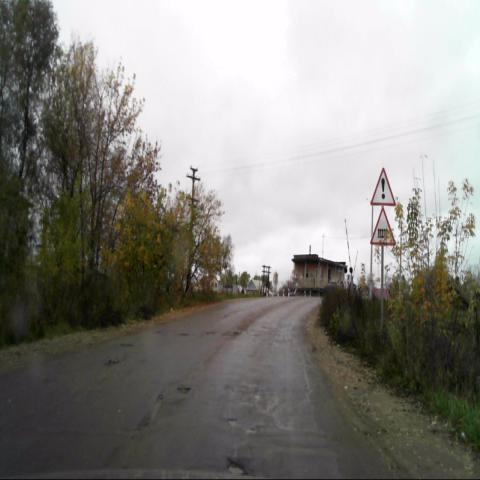1_1: (370, 207, 396, 245)
1_33: (371, 167, 396, 204)
